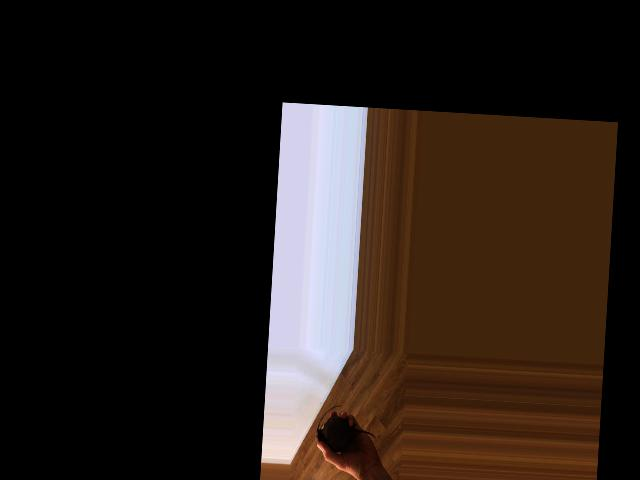beet: (315, 403, 377, 453)
